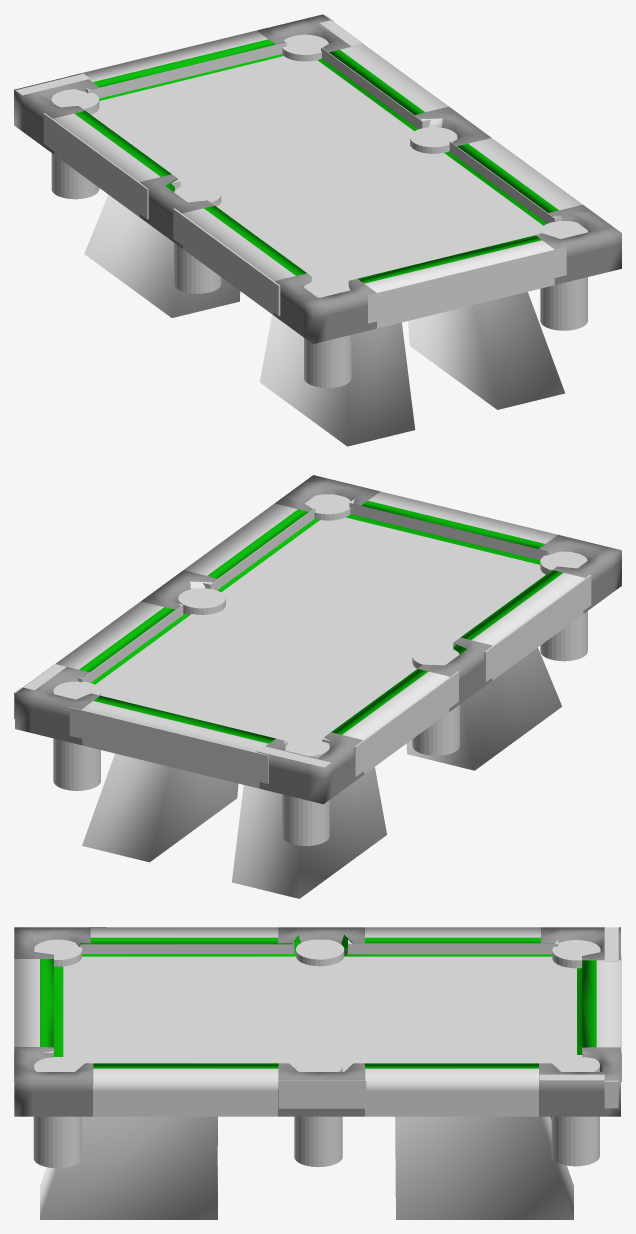
Rendered from table31.glb.
3 renders of one model, top to bottom at view 1: azimuth 30°, elevation 25°; view 2: azimuth 150°, elevation 25°; view 3: azimuth 270°, elevation 25°, orthographic.
Visible parts, largest first — view 1: Plane.001, main, box5, box3, box4, hole5, hole4, box6, hole6, hole2, box2, box1 (+2 smaller); view 2: Plane.001, main, box6, box3, box4, hole2, hole3, hole6, box5, hole5, box2, box1 (+2 smaller); view 3: Plane.001, main, hole1, hole4, hole3, box12, box4, box3, hole6, hole2, hole5, box8 (+2 smaller).
Boxes of the visible parts, <box> form: Plane.001: <box>14,14,621,446</box>; main: <box>91,56,543,282</box>; box5: <box>348,232,566,323</box>; box3: <box>173,208,311,315</box>; box4: <box>43,105,180,219</box>; hole5: <box>304,278,351,387</box>; hole4: <box>540,221,587,330</box>; box6: <box>69,27,286,98</box>; hole6: <box>173,184,221,293</box>; hole2: <box>51,89,99,199</box>; box2: <box>449,140,561,223</box>; box1: <box>321,47,430,128</box>; Plane.001: <box>15,475,621,898</box>; main: <box>95,517,545,740</box>; box6: <box>69,693,287,783</box>; box3: <box>453,575,591,682</box>; box4: <box>322,663,458,777</box>; hole2: <box>282,736,329,845</box>; hole3: <box>53,681,100,790</box>; hole6: <box>412,646,459,755</box>; box5: <box>349,499,548,559</box>; hole5: <box>540,551,587,661</box>; box2: <box>203,507,315,590</box>; box1: <box>77,603,183,682</box>; Plane.001: <box>14,927,620,1219</box>; main: <box>63,956,576,1071</box>; hole1: <box>294,1055,342,1167</box>; hole4: <box>33,1057,81,1168</box>; hole3: <box>551,1054,599,1166</box>; box12: <box>278,1080,366,1108</box>; box4: <box>348,939,558,954</box>; box3: <box>80,942,294,953</box>; hole6: <box>296,939,344,966</box>; hole2: <box>552,940,600,968</box>; hole5: <box>34,939,82,966</box>; box8: <box>604,927,618,961</box>.
Bounding box in the file's own units: 2.95 × 1.43 × 4.88.
